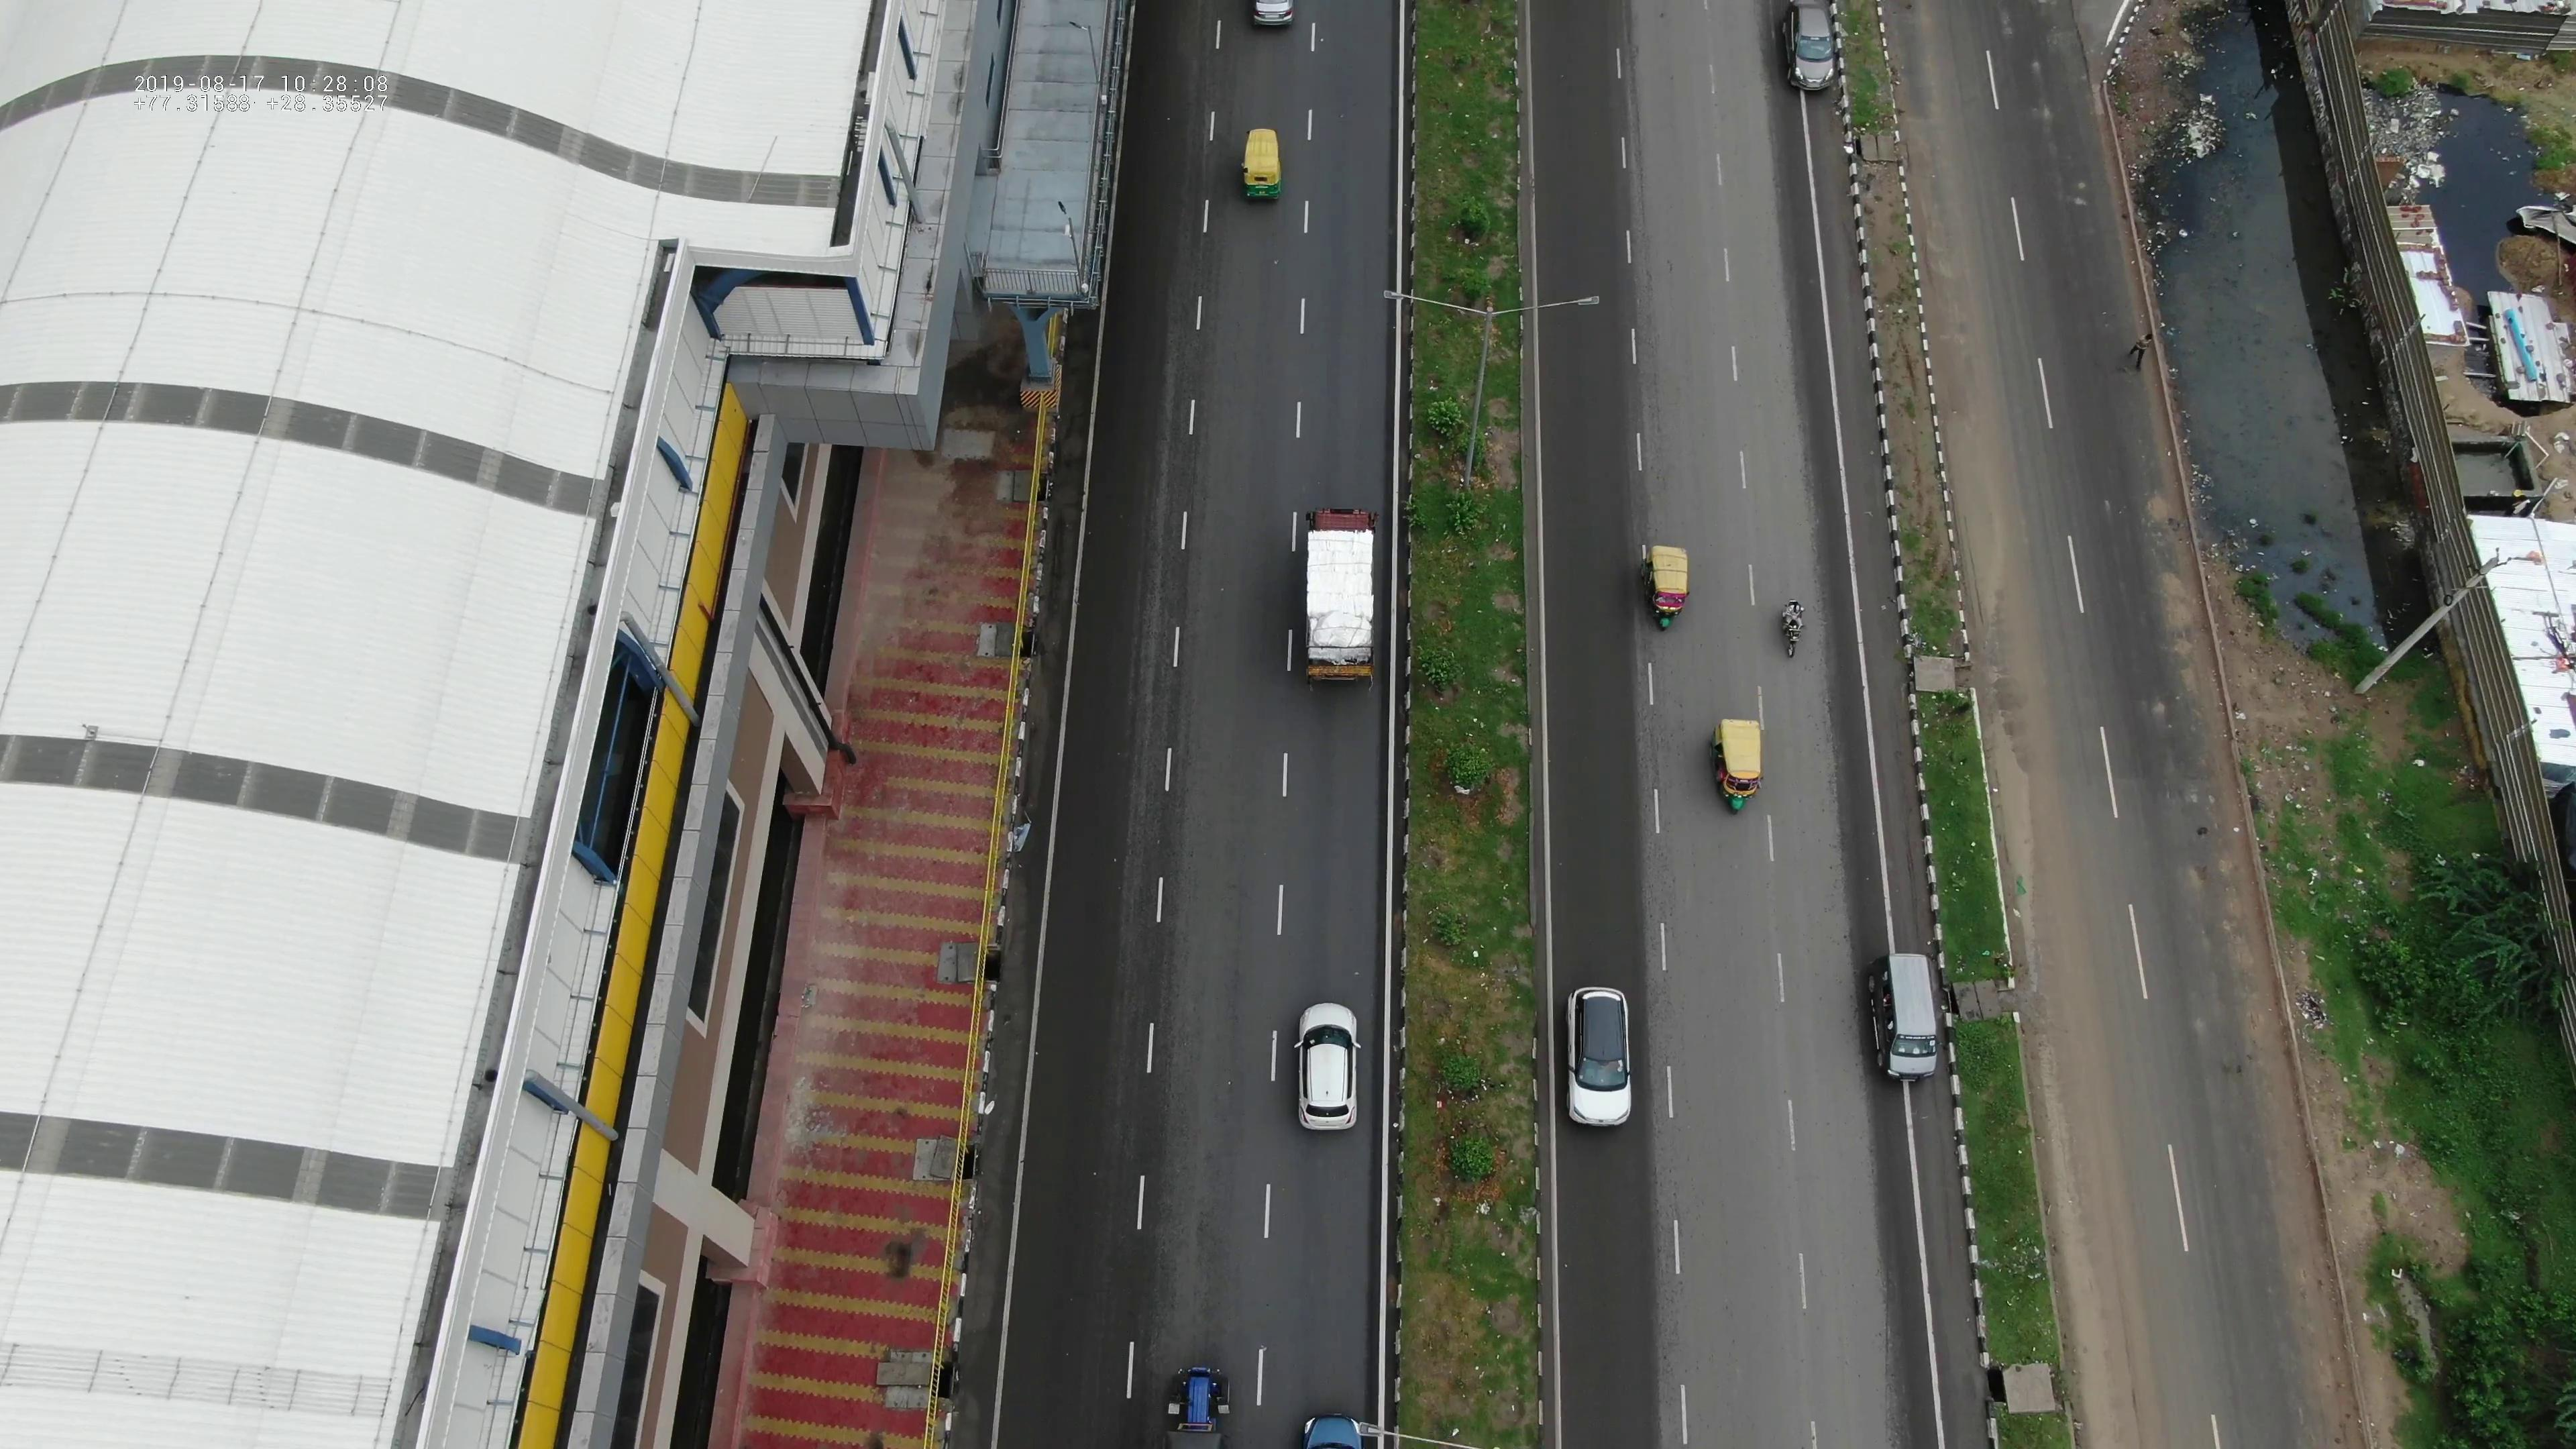Potholes: (2137, 499, 2212, 715), (2180, 837, 2261, 1028)
Waterlogging: (1990, 702, 2054, 948)
